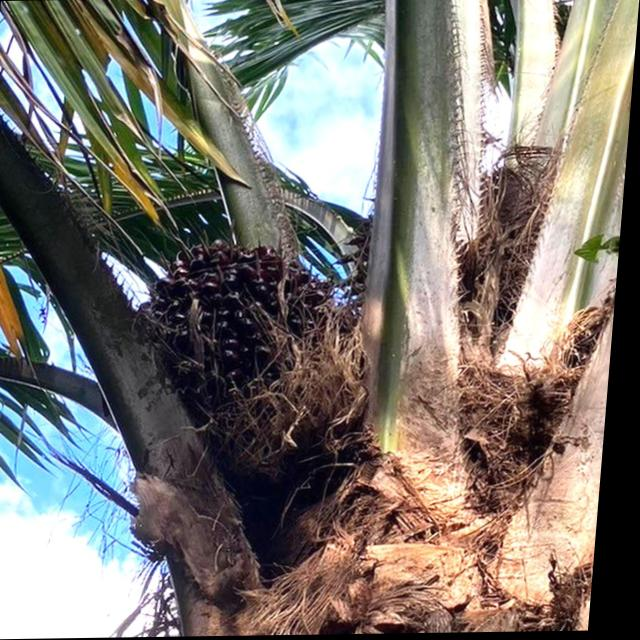ripe: (129, 235, 365, 481)
